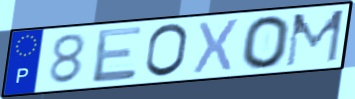8: (46, 32, 88, 85)
E: (90, 24, 145, 85)
M: (283, 7, 348, 69)
O: (240, 14, 293, 72), (143, 22, 191, 79)
X: (190, 16, 242, 76)
